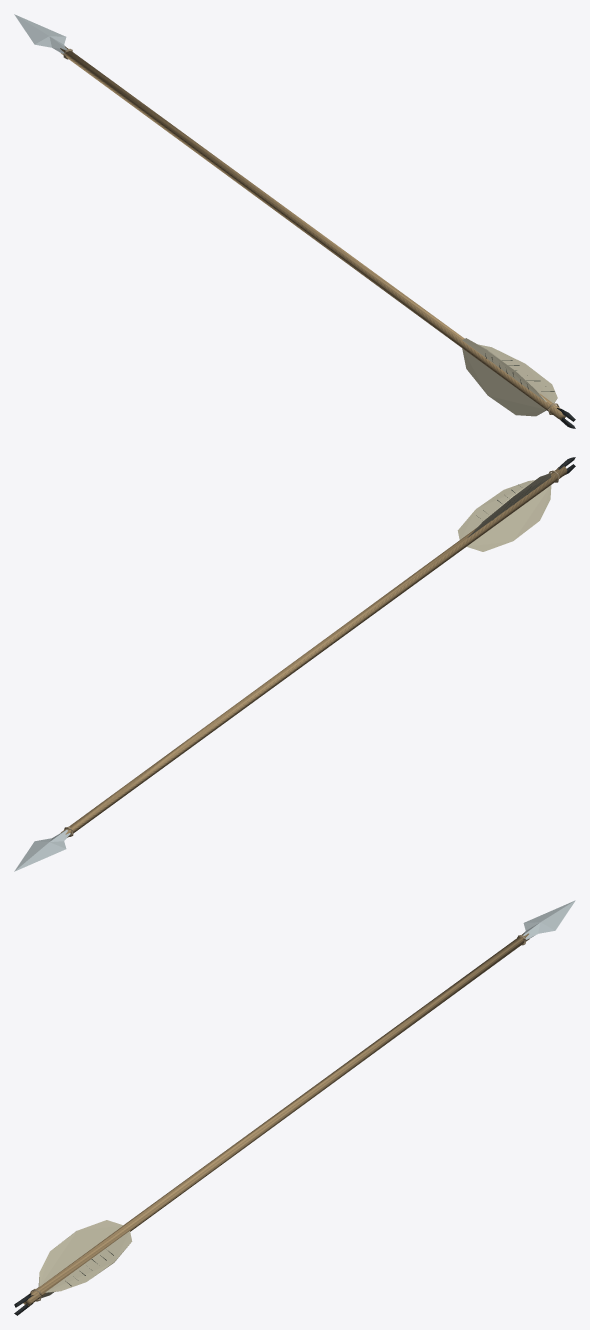
Rendered from arrow_lod2.glb.
The picture shows the model from 3 angles, top to bottom: view 1: azimuth 30°, elevation 25°; view 2: azimuth 150°, elevation 25°; view 3: azimuth 330°, elevation 25°; orthographic projection.
Visible parts, largest first — view 1: ArrowMesh_LOD2; view 2: ArrowMesh_LOD2; view 3: ArrowMesh_LOD2.
Boxes of the visible parts, box(x1,y1,x2,y2) form: ArrowMesh_LOD2: box(14, 14, 575, 428); ArrowMesh_LOD2: box(14, 457, 575, 871); ArrowMesh_LOD2: box(14, 900, 575, 1315).
Size of the model in its own units: 0.0337 by 0.0359 by 0.8001.
6 materials, 2 textured.
